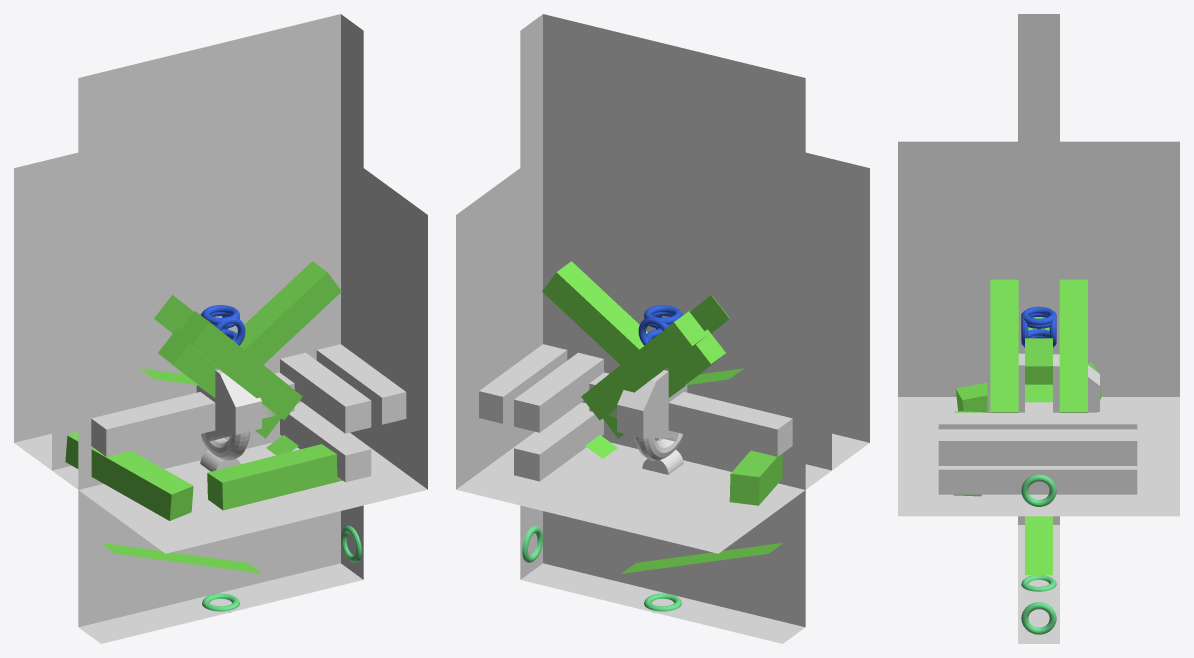
The model's file is Demo.glb.
The picture shows the model from 3 angles, left to right: view 1: azimuth 30°, elevation 25°; view 2: azimuth 150°, elevation 25°; view 3: azimuth 270°, elevation 25°; orthographic projection. The views are drawn at different scales.
Visible parts, largest first — view 1: Plane.004, Plane.031, Plane.028, Plane.033, Plane.022, Plane.010, Cube.003, Plane.013, Cube.004, Plane.024, Cube.006, Cube.005 (+12 smaller); view 2: Plane.005, Plane.028, Plane.031, Plane.032, Plane.024, Plane.023, Plane.013, Cube.003, Plane.009, Cube.006, Plane.010, Cube.002 (+13 smaller); view 3: Plane.030, Plane.025, Plane.028, Plane.007, Cube.009, Cube.011, Cube.001, Cube.002, Cube.010, Plane.027, Plane.009, Plane.003 (+7 smaller).
Boxes of the visible parts, x1=… form: Plane.004: x1=78, y1=14, x2=340, y2=627; Plane.031: x1=341, y1=154, x2=427, y2=489; Plane.028: x1=14, y1=432, x2=427, y2=553; Plane.033: x1=14, y1=152, x2=78, y2=442; Plane.022: x1=52, y1=189, x2=78, y2=470; Plane.010: x1=79, y1=564, x2=361, y2=643; Cube.003: x1=91, y1=372, x2=294, y2=456; Plane.013: x1=341, y1=27, x2=363, y2=578; Cube.004: x1=207, y1=444, x2=342, y2=510; Plane.024: x1=341, y1=151, x2=389, y2=461; Cube.006: x1=236, y1=261, x2=341, y2=364; Cube.005: x1=65, y1=431, x2=193, y2=520; Plane.005: x1=543, y1=14, x2=805, y2=627; Plane.028: x1=456, y1=433, x2=869, y2=553; Plane.031: x1=456, y1=152, x2=542, y2=489; Plane.032: x1=805, y1=152, x2=869, y2=442; Plane.024: x1=494, y1=151, x2=542, y2=460; Plane.023: x1=805, y1=189, x2=831, y2=470; Plane.013: x1=520, y1=14, x2=542, y2=579; Cube.003: x1=589, y1=372, x2=792, y2=456; Plane.009: x1=522, y1=563, x2=803, y2=641; Cube.006: x1=542, y1=261, x2=647, y2=364; Plane.010: x1=521, y1=564, x2=804, y2=643; Cube.002: x1=581, y1=311, x2=706, y2=420; Plane.030: x1=898, y1=141, x2=1179, y2=396; Plane.025: x1=968, y1=141, x2=1109, y2=396; Plane.028: x1=898, y1=397, x2=1179, y2=516; Plane.007: x1=1018, y1=14, x2=1059, y2=524; Cube.009: x1=938, y1=429, x2=1137, y2=465; Cube.011: x1=938, y1=466, x2=1137, y2=494; Cube.001: x1=990, y1=279, x2=1018, y2=412; Cube.002: x1=1059, y1=279, x2=1087, y2=412; Cube.010: x1=938, y1=412, x2=1137, y2=429; Plane.027: x1=968, y1=397, x2=1109, y2=516; Plane.009: x1=1018, y1=525, x2=1059, y2=643; Plane.003: x1=1025, y1=516, x2=1052, y2=575.
Size of the model in its own units: 20.25 by 40.25 by 20.
